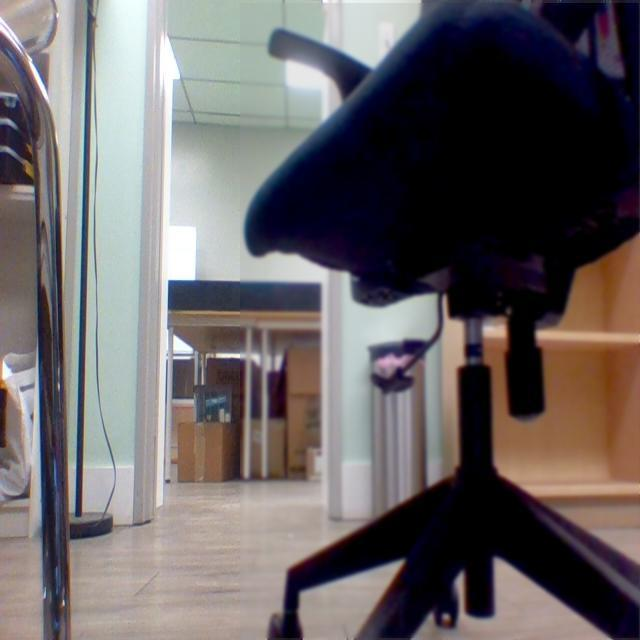chair: (240, 3, 640, 639)
